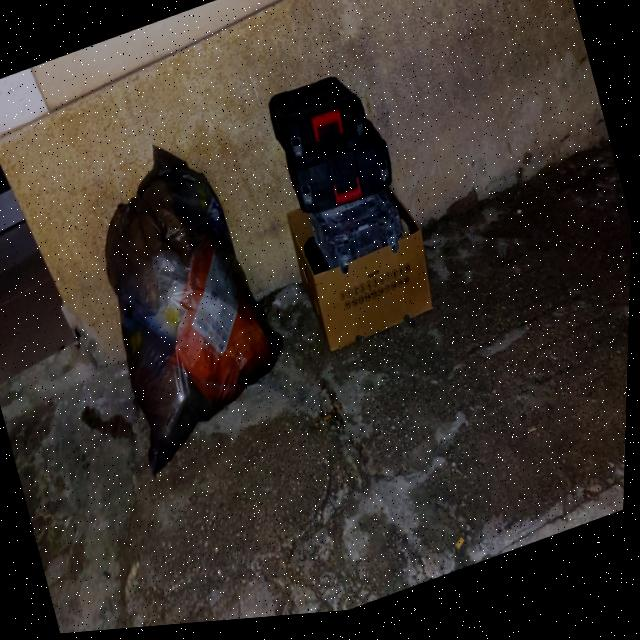Mixed Waste -Black Bag-: (65, 124, 316, 483)
Other: (275, 165, 448, 360), (258, 67, 378, 183), (282, 121, 402, 226), (306, 192, 409, 278)
